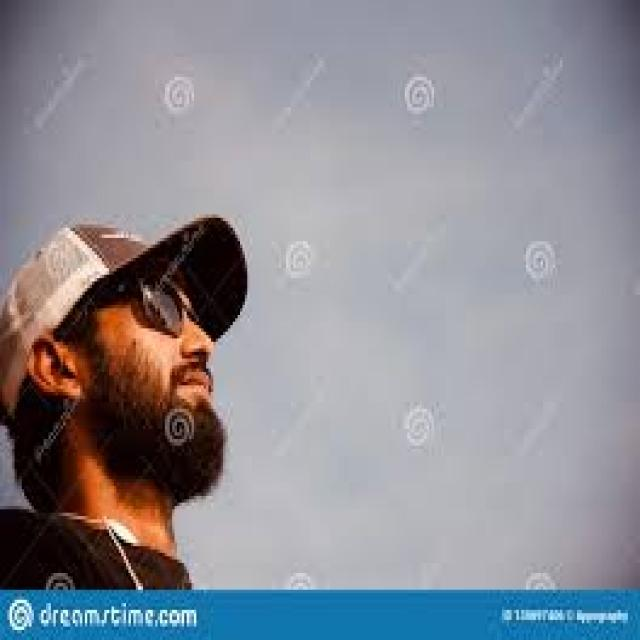cap: (0, 211, 250, 513)
